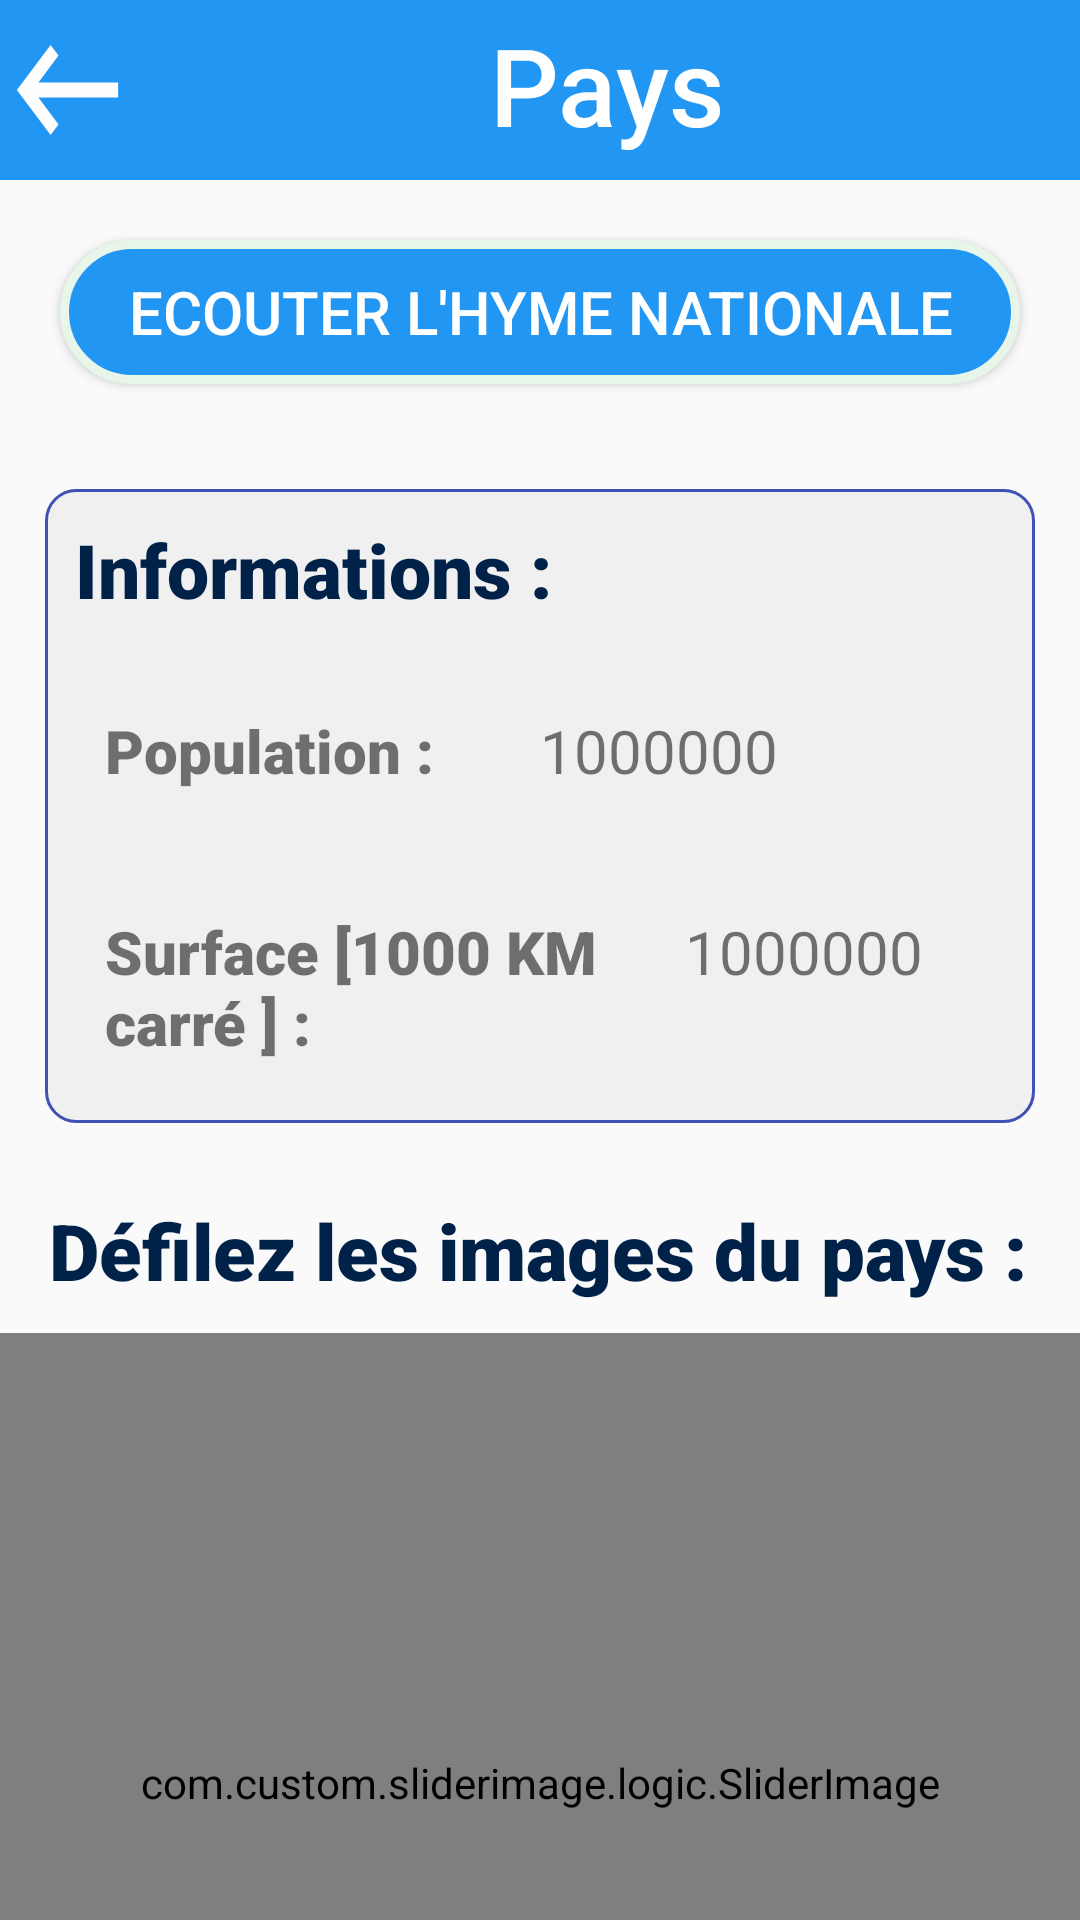

Icon click points for this 1080×1920 phone screenshot, format [x,y]:
keyboard backspace: [68,90]
